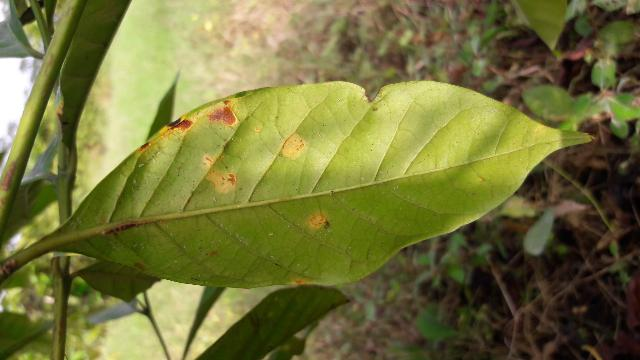rust_level_2: (23, 80, 599, 290)
